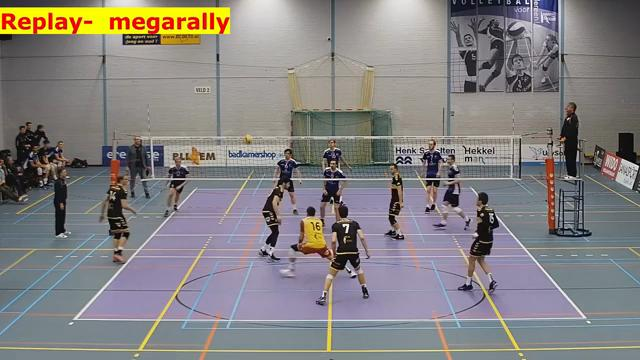Player: (316, 206, 369, 304), (458, 192, 498, 291), (99, 175, 136, 262), (434, 154, 470, 229), (259, 178, 290, 260), (274, 149, 301, 214), (320, 160, 345, 226), (421, 139, 443, 212), (385, 164, 404, 239), (164, 157, 188, 216), (322, 139, 351, 169)
Receive: (282, 203, 358, 284)
ball: (243, 132, 253, 145)
